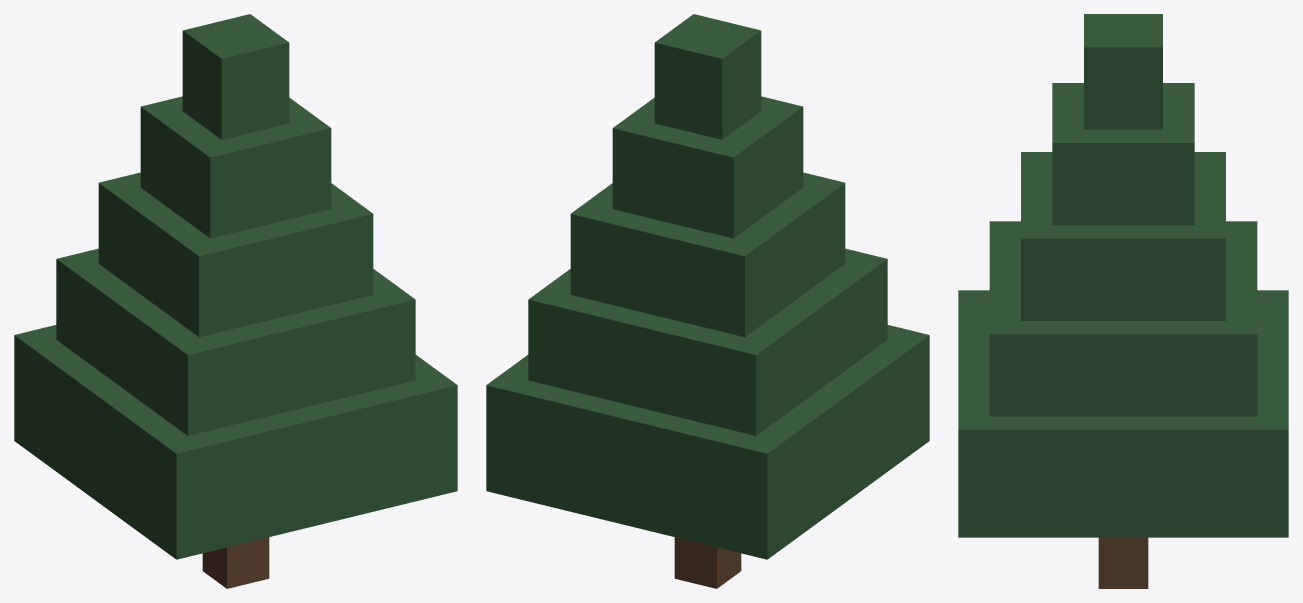
The model's file is pine.glb.
The picture shows the model from 3 angles, left to right: view 1: azimuth 30°, elevation 25°; view 2: azimuth 150°, elevation 25°; view 3: azimuth 270°, elevation 25°; orthographic projection.
Parts seen in each view (by area): view 1: pine; view 2: pine; view 3: pine.
Boxes of the visible parts, x1,y1,x2,y2 form: pine: (14, 14, 457, 588); pine: (486, 14, 929, 588); pine: (958, 14, 1288, 588).
Size of the model in its own units: 2 by 3.66 by 2.
